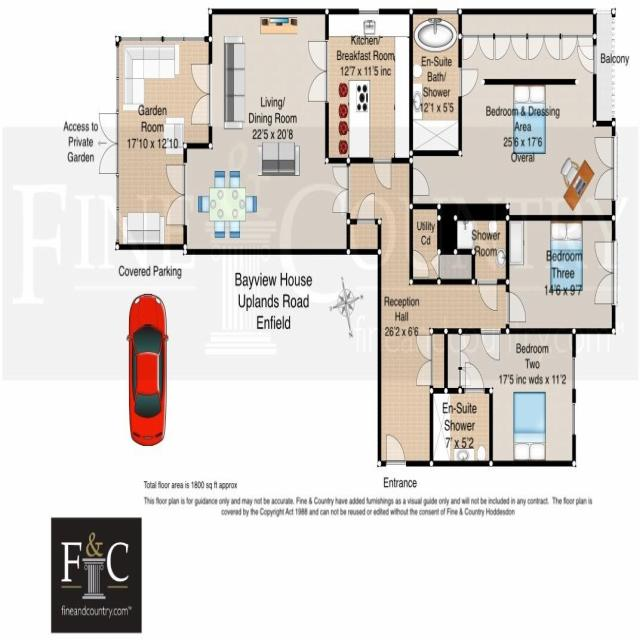DOOR: (505, 290, 526, 326), (480, 328, 501, 361), (372, 158, 393, 191), (458, 67, 479, 98), (409, 167, 430, 198)
DOUBLE DOOR: (305, 35, 331, 107), (163, 160, 189, 228), (189, 61, 214, 129)
ROOM: (164, 8, 350, 255), (409, 8, 615, 222), (307, 8, 413, 191), (443, 328, 577, 467), (506, 215, 616, 335)
WINDOW: (357, 8, 380, 15), (572, 356, 576, 391), (572, 402, 575, 436)
